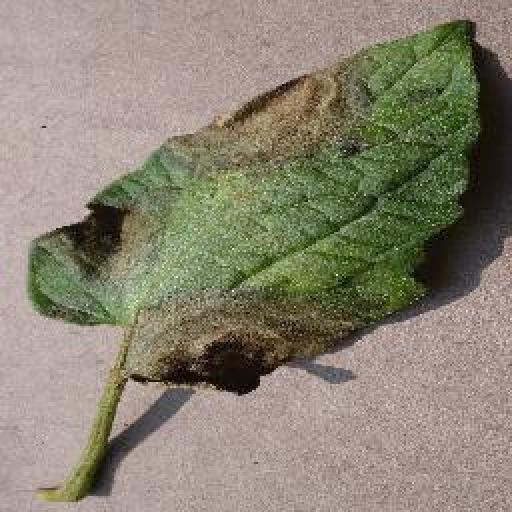disease_tomato: (26, 16, 482, 400)
